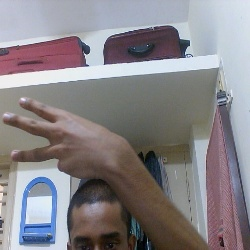hand: (3, 94, 133, 189)
